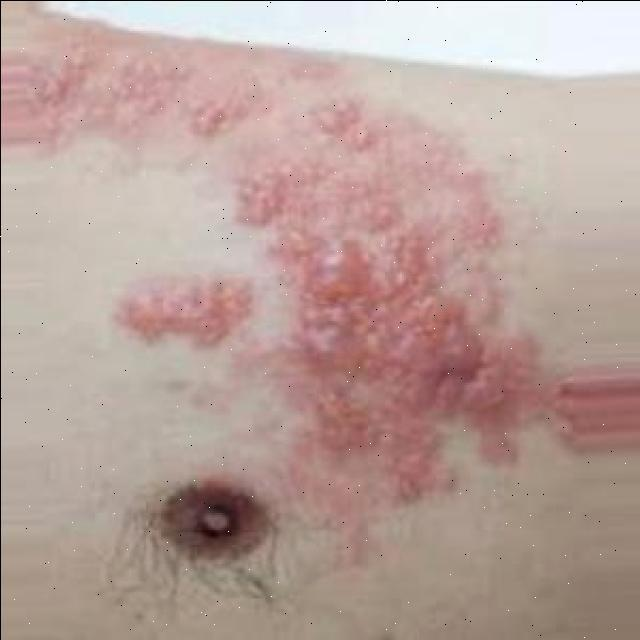Shingles: (52, 49, 525, 497)
